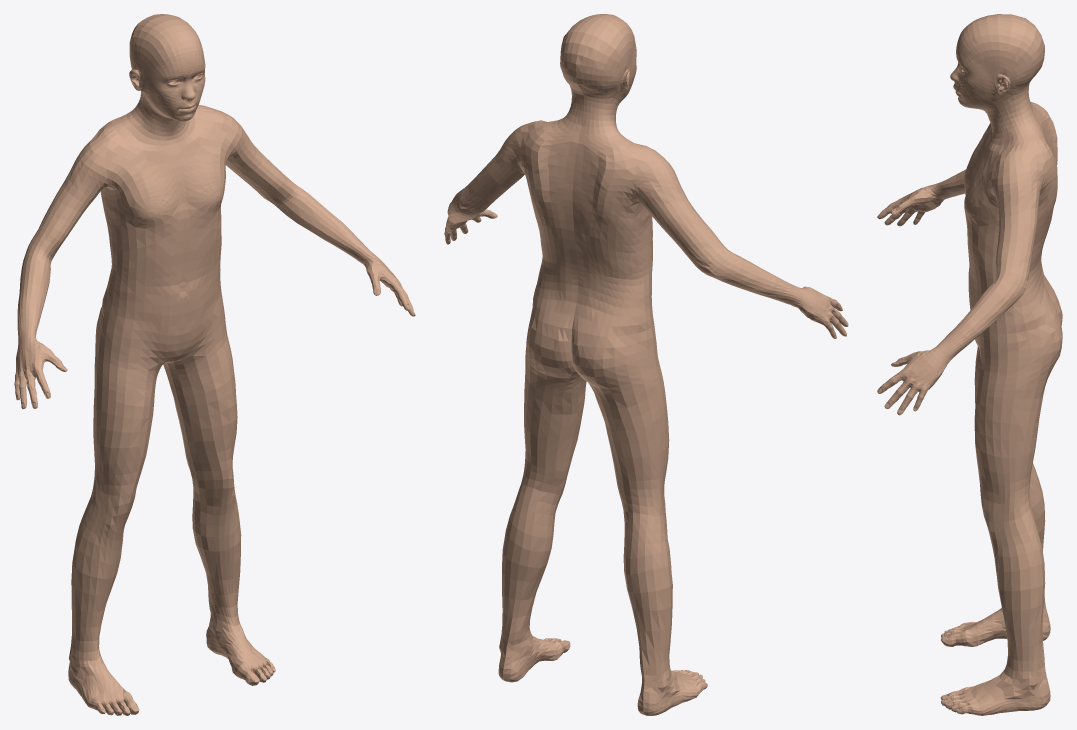
File: ward_delirium_senior_resident_adult.anny_base.obj
The picture shows the model from 3 angles, left to right: view 1: azimuth 30°, elevation 25°; view 2: azimuth 150°, elevation 25°; view 3: azimuth 270°, elevation 25°; orthographic projection.
Bounding box in the file's own units: 1.07 × 1.72 × 0.4399.
